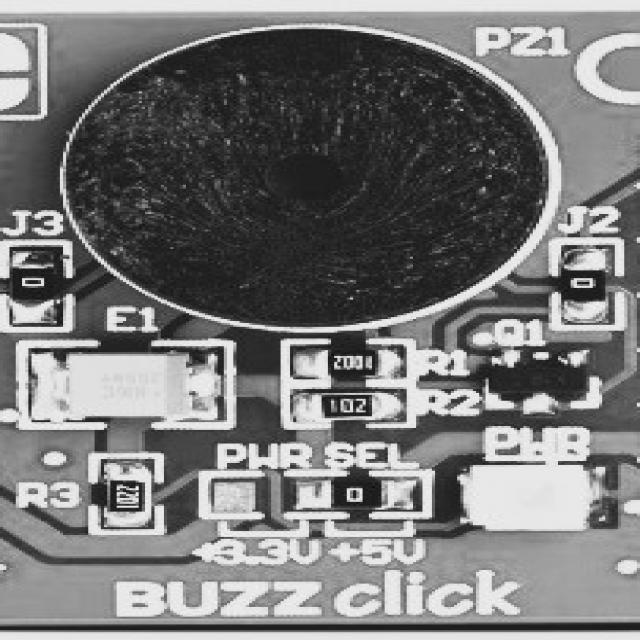4439: (488, 355, 601, 407)
LED: (37, 352, 208, 428), (457, 463, 596, 538)
buzzer: (63, 24, 550, 318)
resistor IR1: (565, 252, 622, 320), (318, 467, 400, 514), (98, 455, 154, 523), (296, 344, 409, 376), (14, 253, 56, 327), (307, 392, 389, 423)
